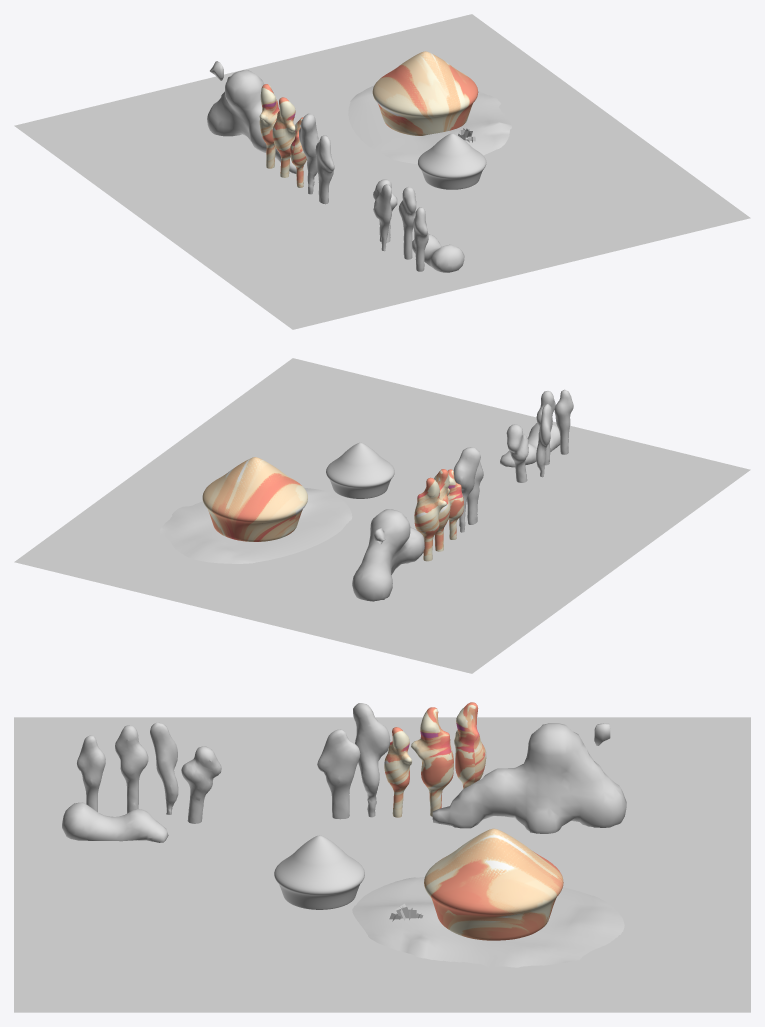
File: 干草堆.fbx
The picture shows the model from 3 angles, top to bottom: view 1: azimuth 30°, elevation 25°; view 2: azimuth 150°, elevation 25°; view 3: azimuth 270°, elevation 25°; orthographic projection. The views are drawn at different scales.
Parts seen in each view (by area): view 1: Plane, Circle, Plane.001, Mball.021, Circle.001, Mball.008, Mball.013, Mball.005, Mball.004, Mball.006, Mball.003, Mball.002 (+2 smaller); view 2: Plane, Plane.001, Circle, Mball.021, Circle.001, Mball.005, Mball.004, Mball.007, Mball.014, Mball.013, Mball.008, Mball.001 (+2 smaller); view 3: Plane, Plane.001, Mball.021, Circle, Circle.001, Mball.013, Mball.008, Mball.006, Mball.004, Mball.005, Mball.007, Mball.003 (+3 smaller).
Part boxes in pixels (left/top/right/bottom): Plane: left=14, top=14, right=750, bottom=329; Circle: left=372, top=51, right=478, bottom=135; Plane.001: left=348, top=85, right=511, bottom=163; Mball.021: left=207, top=61, right=296, bottom=173; Circle.001: left=418, top=133, right=486, bottom=189; Mball.008: left=272, top=97, right=295, bottom=177; Mball.013: left=412, top=234, right=464, bottom=272; Mball.005: left=259, top=84, right=279, bottom=168; Mball.004: left=299, top=113, right=318, bottom=194; Mball.006: left=315, top=135, right=334, bottom=204; Mball.003: left=398, top=187, right=416, bottom=259; Mball.002: left=374, top=184, right=391, bottom=251; Plane: left=14, top=358, right=750, bottom=673; Plane.001: left=160, top=487, right=352, bottom=563; Circle: left=202, top=457, right=307, bottom=541; Mball.021: left=352, top=509, right=424, bottom=601; Circle.001: left=326, top=442, right=394, bottom=498; Mball.005: left=414, top=477, right=446, bottom=561; Mball.004: left=453, top=447, right=480, bottom=532; Mball.007: left=506, top=424, right=528, bottom=482; Mball.014: left=554, top=389, right=573, bottom=454; Mball.013: left=500, top=423, right=560, bottom=467; Mball.008: left=434, top=469, right=450, bottom=551; Mball.001: left=447, top=469, right=464, bottom=539; Plane: left=14, top=717, right=750, bottom=1012; Plane.001: left=352, top=877, right=624, bottom=967; Mball.021: left=432, top=723, right=626, bottom=833; Circle: left=424, top=828, right=563, bottom=940; Circle.001: left=274, top=835, right=364, bottom=909; Mball.013: left=62, top=802, right=168, bottom=842; Mball.008: left=411, top=707, right=453, bottom=816; Mball.006: left=317, top=729, right=360, bottom=819; Mball.004: left=353, top=703, right=390, bottom=817; Mball.005: left=454, top=702, right=486, bottom=788; Mball.007: left=181, top=746, right=221, bottom=823; Mball.003: left=115, top=725, right=148, bottom=813.
Bounding box in the file's own units: 1104 × 230 × 1164.
